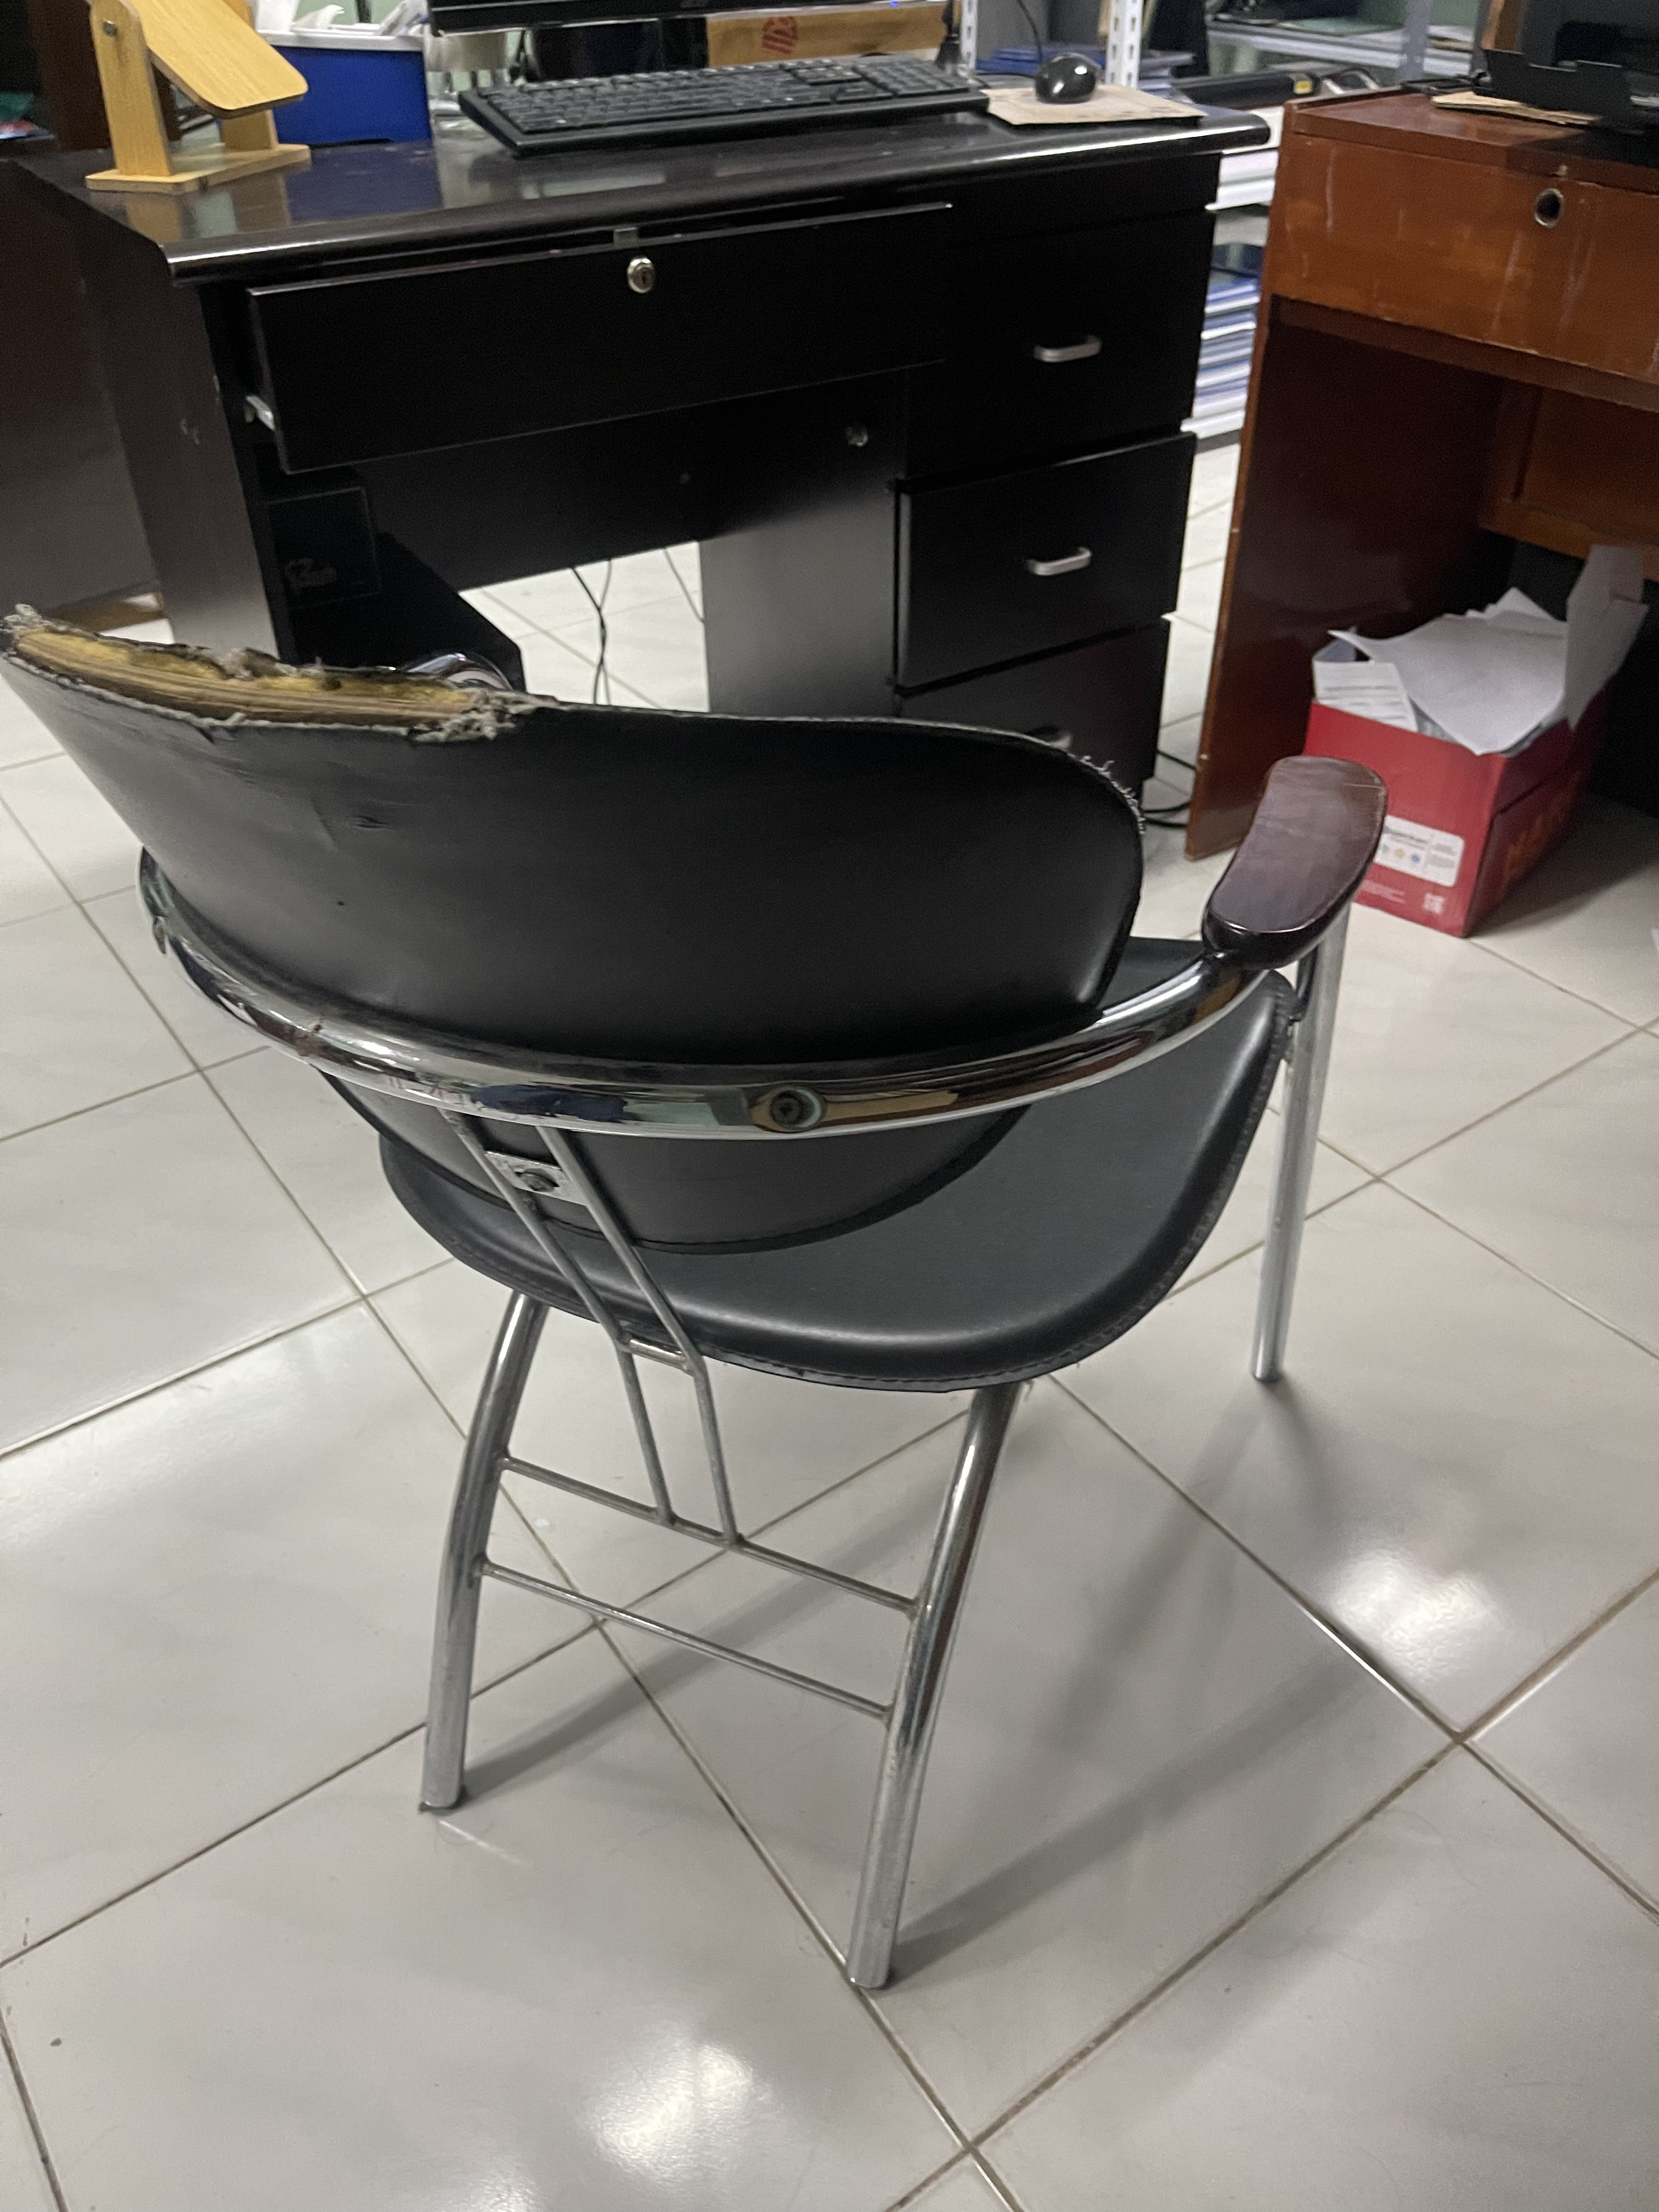chair1: (3, 585, 1399, 1986)
